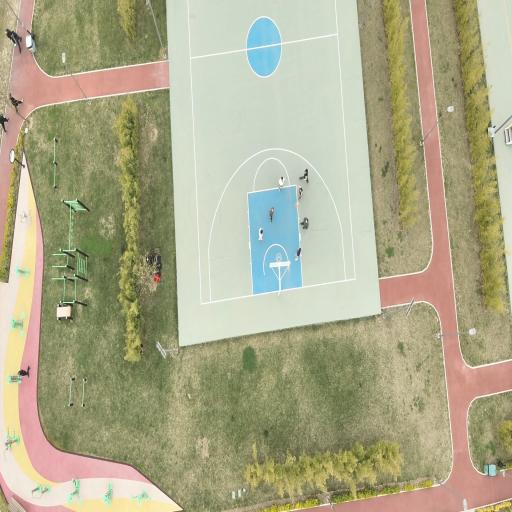person: (6, 29, 21, 52), (10, 93, 23, 112), (0, 114, 8, 133), (6, 28, 15, 44), (18, 366, 29, 377), (300, 169, 308, 182), (301, 218, 308, 229), (279, 176, 284, 191), (298, 187, 303, 200), (296, 247, 301, 260), (270, 207, 274, 222), (140, 343, 144, 356), (259, 229, 263, 241)
